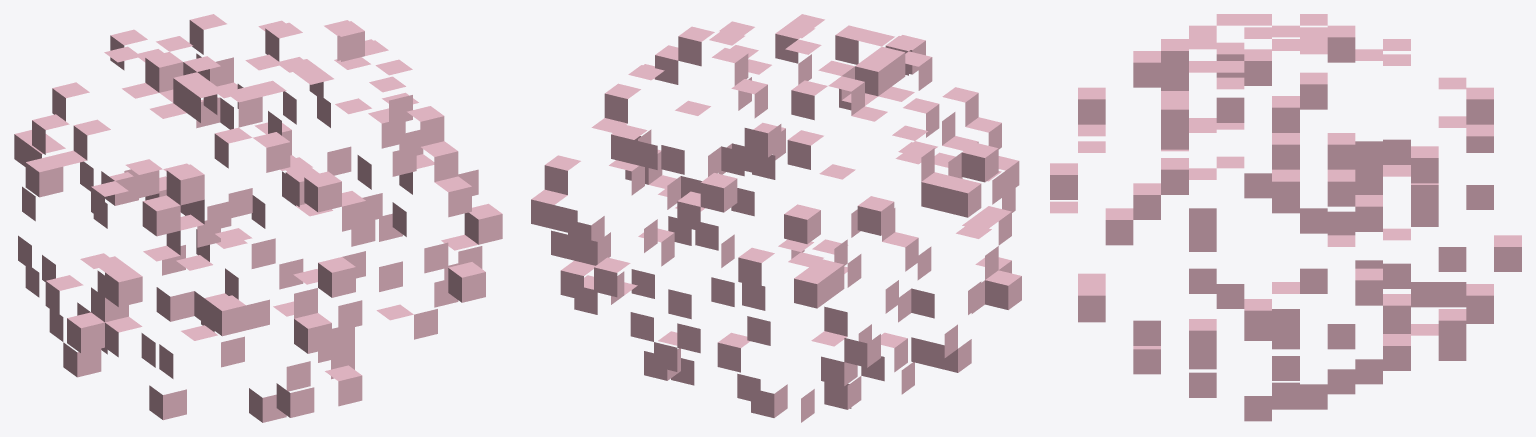
The model's file is tree-cherry-1p25-pink1-f9c6d6.gltf.
The picture shows the model from 3 angles, left to right: view 1: azimuth 30°, elevation 25°; view 2: azimuth 150°, elevation 25°; view 3: azimuth 270°, elevation 25°; orthographic projection. The views are drawn at different scales.
Parts seen in each view (by area): view 1: tree-cherry-1p25-pink1-f9c6d6; view 2: tree-cherry-1p25-pink1-f9c6d6; view 3: tree-cherry-1p25-pink1-f9c6d6.
Part boxes in pixels (left/top/right/bottom): tree-cherry-1p25-pink1-f9c6d6: left=14, top=14, right=502, bottom=422; tree-cherry-1p25-pink1-f9c6d6: left=531, top=14, right=1021, bottom=422; tree-cherry-1p25-pink1-f9c6d6: left=1050, top=14, right=1521, bottom=421.
Size of the model in its own units: 17 by 13 by 17.
